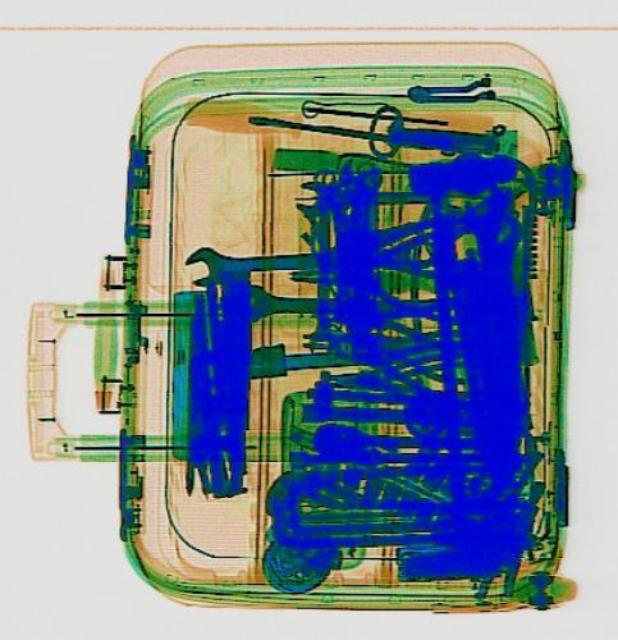Wrench: (180, 238, 328, 286), (294, 179, 424, 213)
